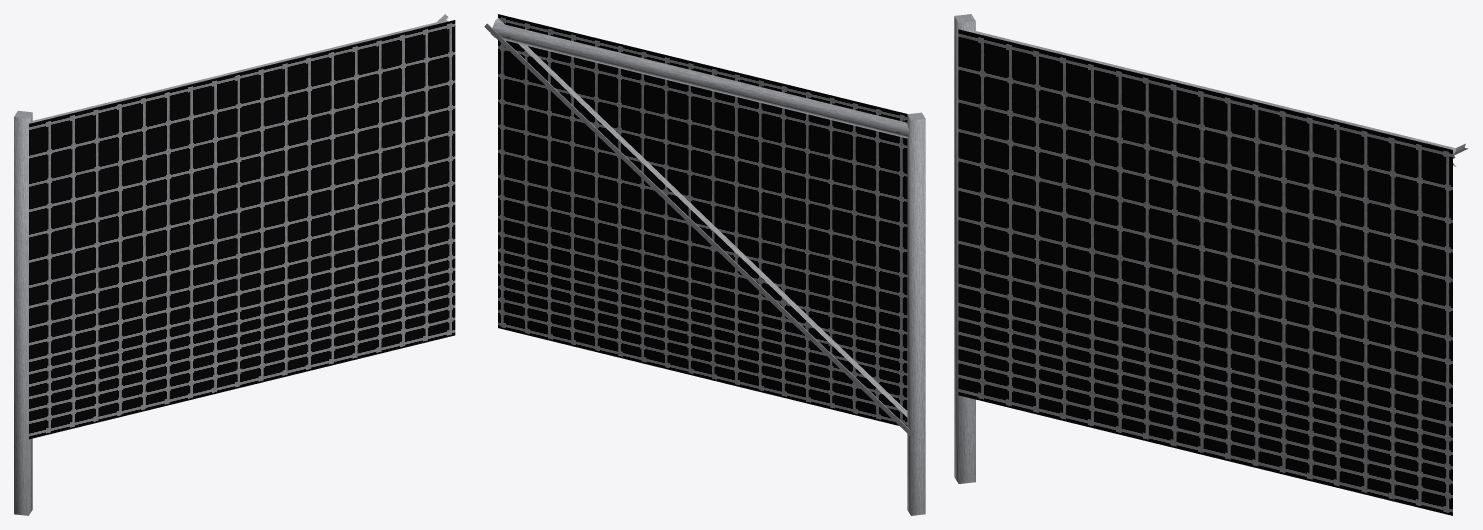
Rendered from fence-tall-mesh-start-cbj_LOD02.gltf.
3 renders of one model, left to right at view 1: azimuth 30°, elevation 25°; view 2: azimuth 150°, elevation 25°; view 3: azimuth 330°, elevation 25°, orthographic. The views are drawn at different scales.
Visible parts, largest first — view 1: Cube.002; view 2: Cube.002; view 3: Cube.002.
Boxes of the visible parts, x1,y1,x2,y2 form: Cube.002: (14, 14, 455, 515); Cube.002: (484, 14, 925, 515); Cube.002: (954, 14, 1468, 515).
Size of what is drawn, in the model's own units: 2.69 by 2.33 by 0.1172.
